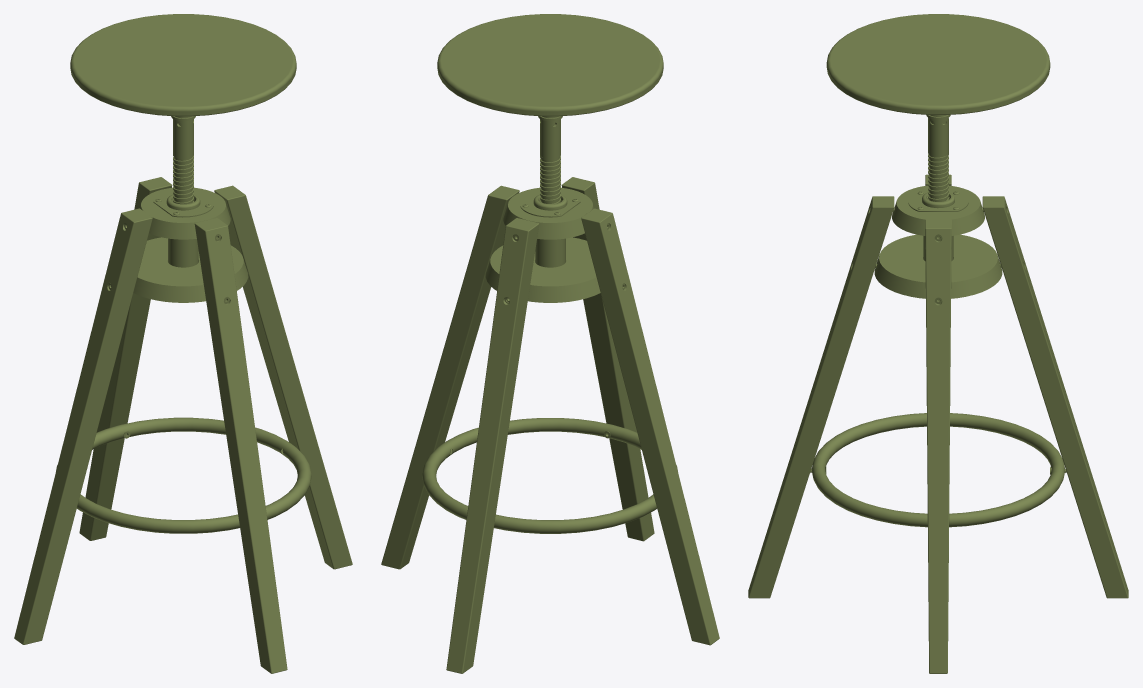
The model's file is DALFRED_cozy.glb.
3 views of the same model, side by side, from view 1: azimuth 30°, elevation 25°; view 2: azimuth 150°, elevation 25°; view 3: azimuth 270°, elevation 25° (orthographic).
Visible parts, largest first — view 1: seat_seat, base_leg_3, base_leg_2, base_leg_4, base_leg_1, base_ringRail, base_circleDown, base_circleUpp, seat_pole, base_supportPin; view 2: seat_seat, base_leg_1, base_leg_2, base_leg_4, base_leg_3, base_ringRail, base_circleDown, base_circleUpp, seat_pole, base_supportPin; view 3: seat_seat, base_leg_4, base_leg_1, base_leg_3, base_ringRail, base_circleDown, base_circleUpp, seat_pole, base_supportPin.
Part boxes in pixels (x1=…): seat_seat: x1=70, y1=14, x2=296, y2=116; base_leg_3: x1=194, y1=218, x2=287, y2=673; base_leg_2: x1=14, y1=208, x2=152, y2=644; base_leg_4: x1=214, y1=185, x2=352, y2=569; base_leg_1: x1=79, y1=177, x2=172, y2=540; base_ringRail: x1=56, y1=417, x2=311, y2=533; base_circleDown: x1=133, y1=237, x2=248, y2=302; base_circleUpp: x1=139, y1=187, x2=230, y2=239; seat_pole: x1=171, y1=116, x2=195, y2=204; base_supportPin: x1=153, y1=191, x2=213, y2=267; seat_seat: x1=437, y1=14, x2=663, y2=116; base_leg_1: x1=446, y1=218, x2=539, y2=673; base_leg_2: x1=581, y1=208, x2=719, y2=645; base_leg_4: x1=381, y1=185, x2=519, y2=569; base_leg_3: x1=561, y1=177, x2=654, y2=541; base_ringRail: x1=422, y1=418, x2=677, y2=533; base_circleDown: x1=485, y1=237, x2=600, y2=302; base_circleUpp: x1=503, y1=187, x2=594, y2=239; seat_pole: x1=538, y1=116, x2=562, y2=204; base_supportPin: x1=520, y1=191, x2=580, y2=267; seat_seat: x1=826, y1=14, x2=1050, y2=114; base_leg_4: x1=925, y1=219, x2=951, y2=673; base_leg_1: x1=982, y1=196, x2=1128, y2=598; base_leg_3: x1=748, y1=196, x2=894, y2=598; base_ringRail: x1=812, y1=413, x2=1064, y2=527; base_circleDown: x1=874, y1=234, x2=1002, y2=298; base_circleUpp: x1=892, y1=185, x2=984, y2=235; seat_pole: x1=926, y1=115, x2=950, y2=201; base_supportPin: x1=908, y1=191, x2=968, y2=261.
Bounding box in the file's own units: 0.4962 × 0.7783 × 0.5015.
